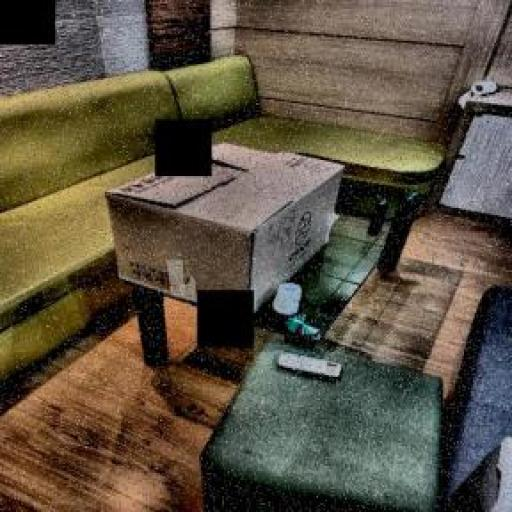box: (103, 142, 350, 318)
